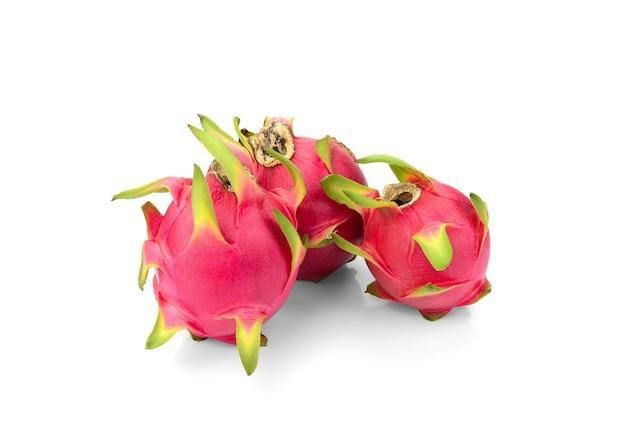dragon-fruit: (151, 170, 302, 340), (361, 180, 492, 311), (257, 135, 369, 282)
